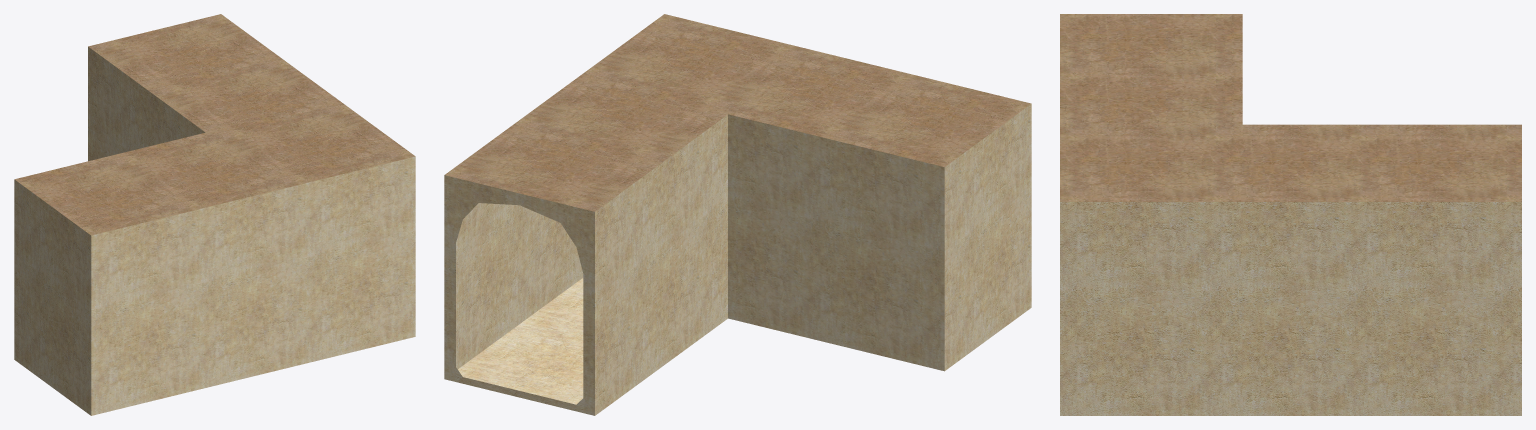
The model's file is thm_tato_block_bldg_64x32_s02_r1_foyera_mesh_foyera.fbx.
The picture shows the model from 3 angles, left to right: view 1: azimuth 30°, elevation 25°; view 2: azimuth 150°, elevation 25°; view 3: azimuth 270°, elevation 25°; orthographic projection. The views are drawn at different scales.
Visible parts, largest first — view 1: mesh_node; view 2: mesh_node; view 3: mesh_node.
Part boxes in pixels (bbox=[...]): mesh_node: bbox=[14, 14, 415, 415]; mesh_node: bbox=[444, 14, 1031, 415]; mesh_node: bbox=[1060, 14, 1521, 415].
Bounding box in the file's own units: 6.11 × 3.25 × 6.35.
